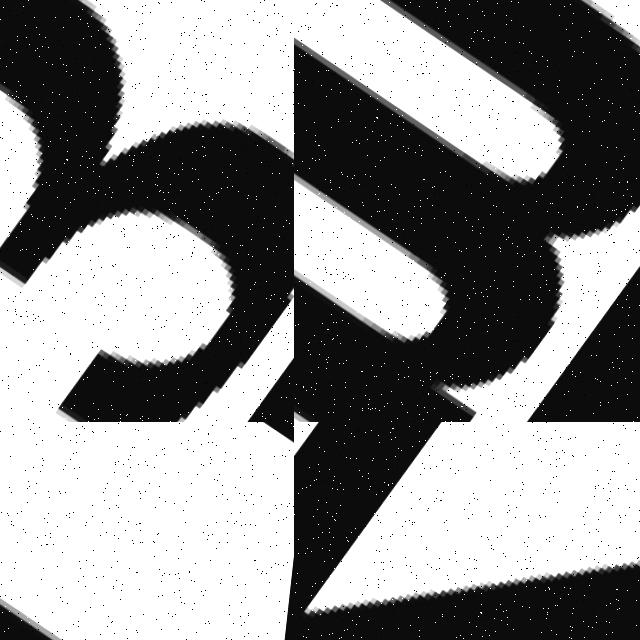3: (0, 0, 294, 422)
I: (0, 422, 285, 640)
M: (294, 0, 640, 422)
Z: (294, 422, 640, 640)
